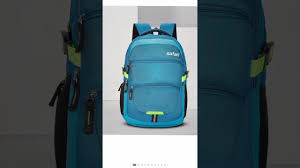backpack: (118, 22, 189, 127)
